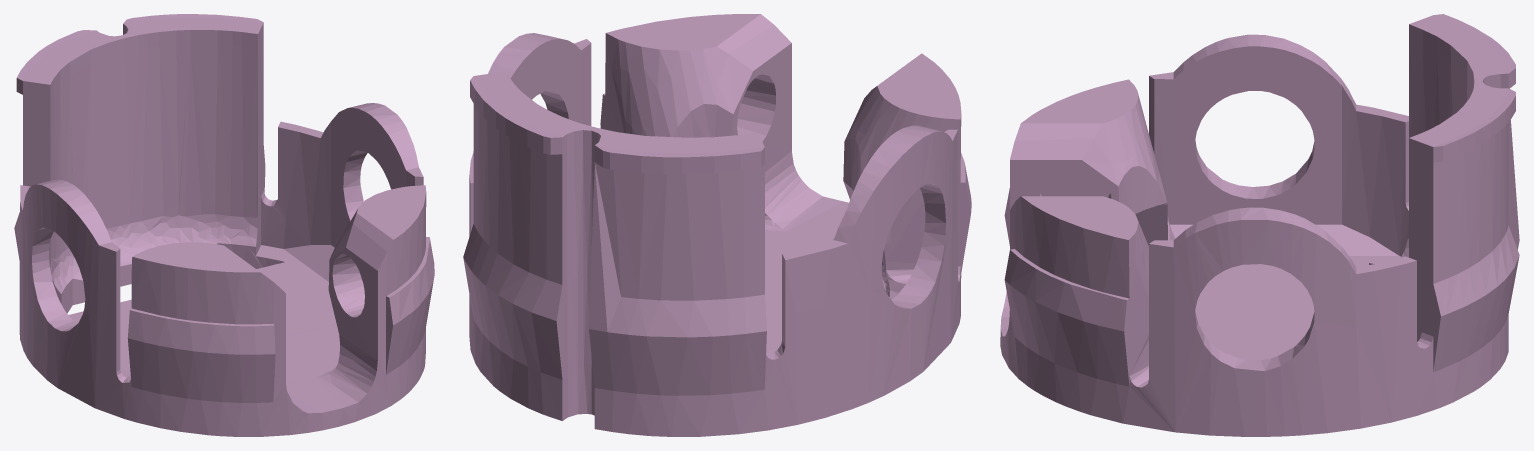
Rendered from i02_head_right_eye_vertical_visual_0.obj.full.glb.
The picture shows the model from 3 angles, left to right: view 1: azimuth 30°, elevation 25°; view 2: azimuth 150°, elevation 25°; view 3: azimuth 270°, elevation 25°; orthographic projection. The views are drawn at different scales.
Size of the model in its own units: 0.1896 by 0.1261 by 0.225.
